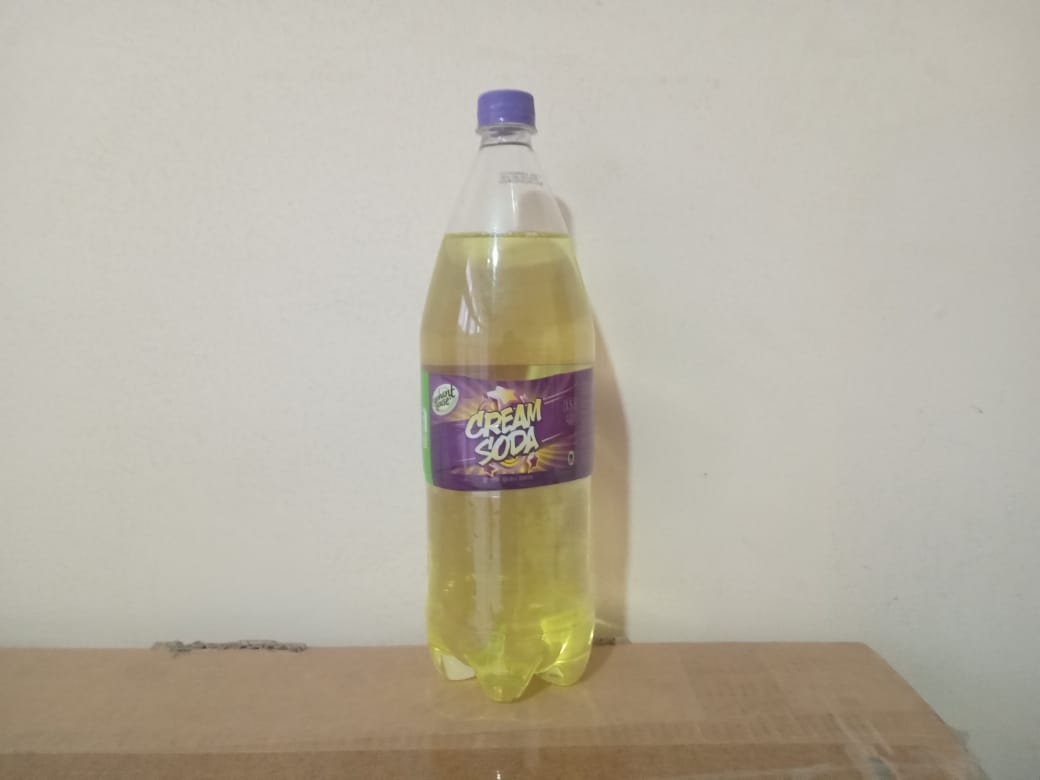L: (413, 87, 605, 705)
